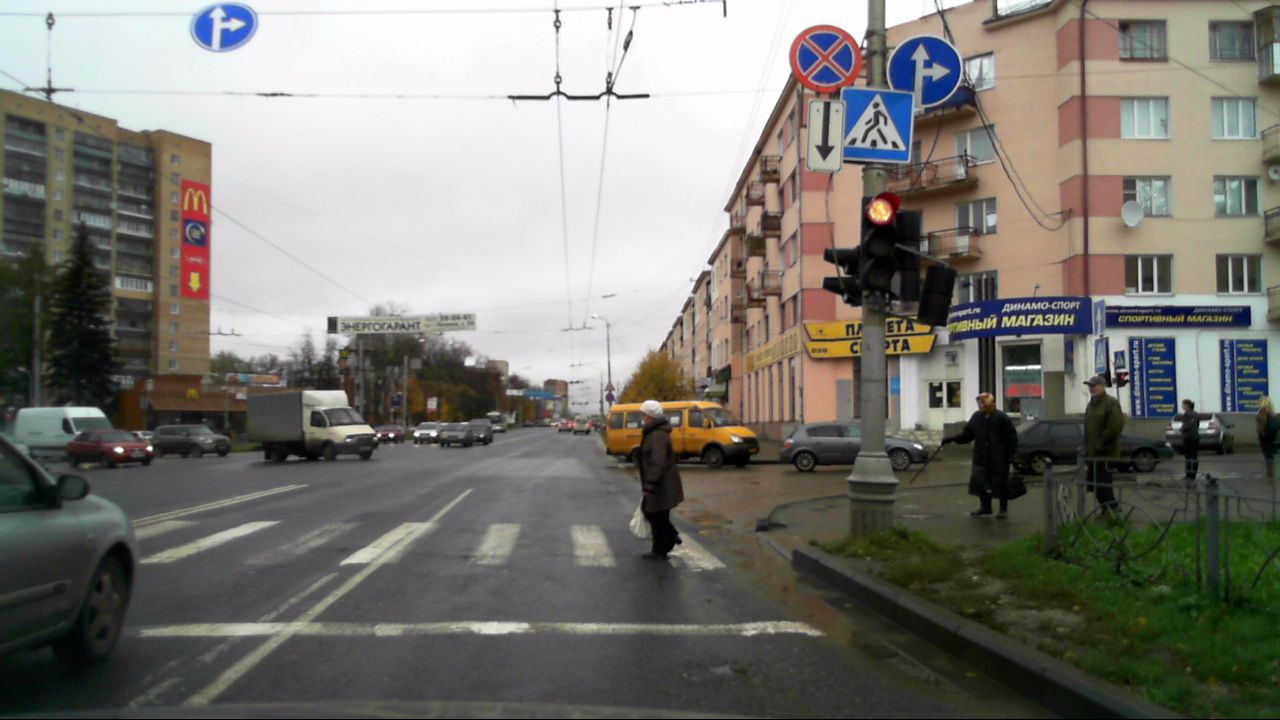No Parking: (789, 23, 860, 92)
